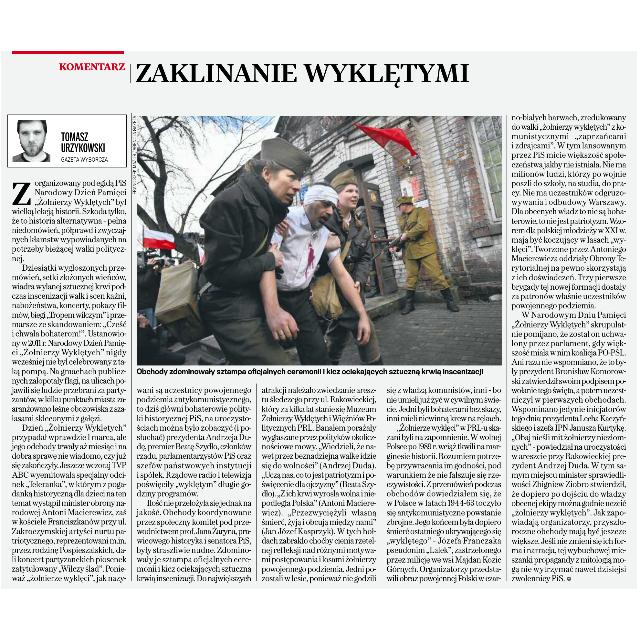author: (59, 128, 110, 154)
body: (509, 112, 629, 586), (5, 176, 131, 586), (134, 384, 256, 586), (384, 382, 504, 586), (260, 382, 380, 584)
caption: (135, 366, 492, 379)
image: (134, 112, 503, 368)
title: (134, 58, 478, 92)
